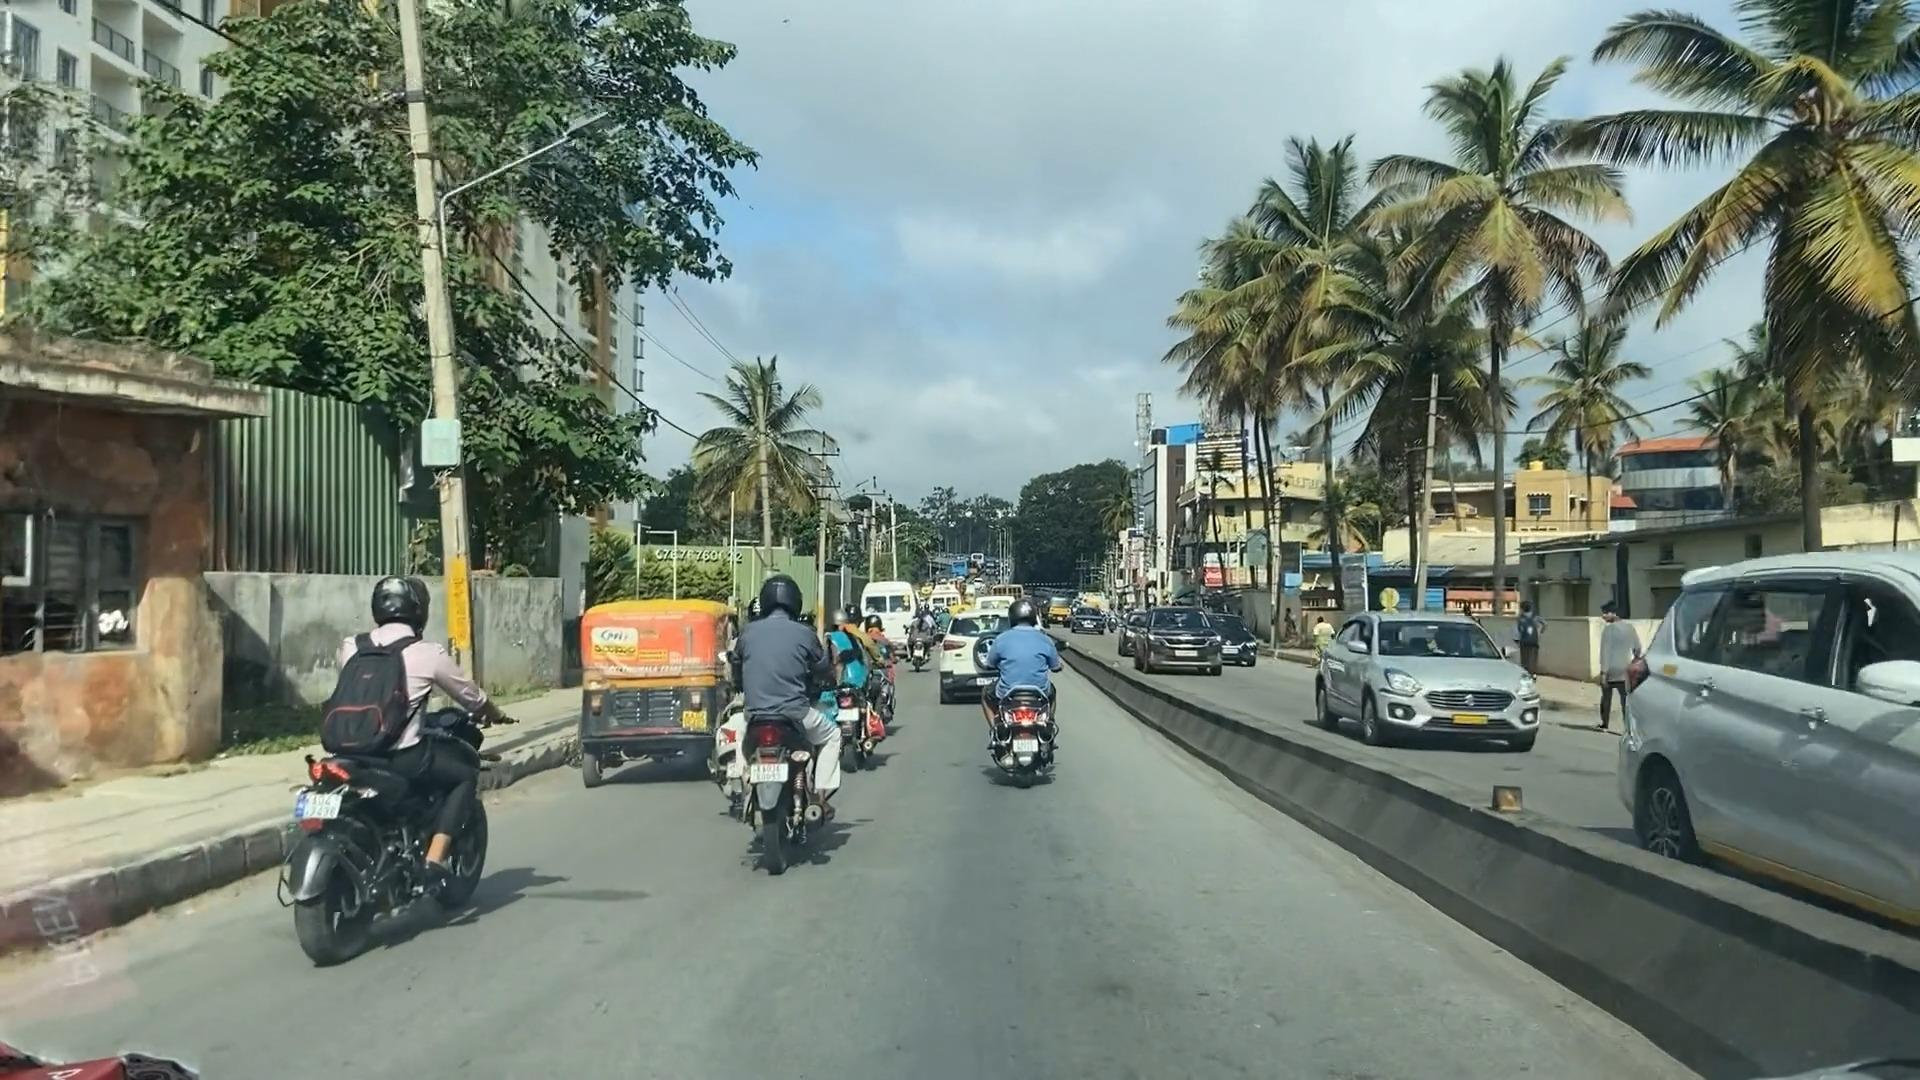LMV: (286, 582, 479, 932), (728, 580, 833, 877), (588, 618, 717, 769), (982, 607, 1058, 770)
